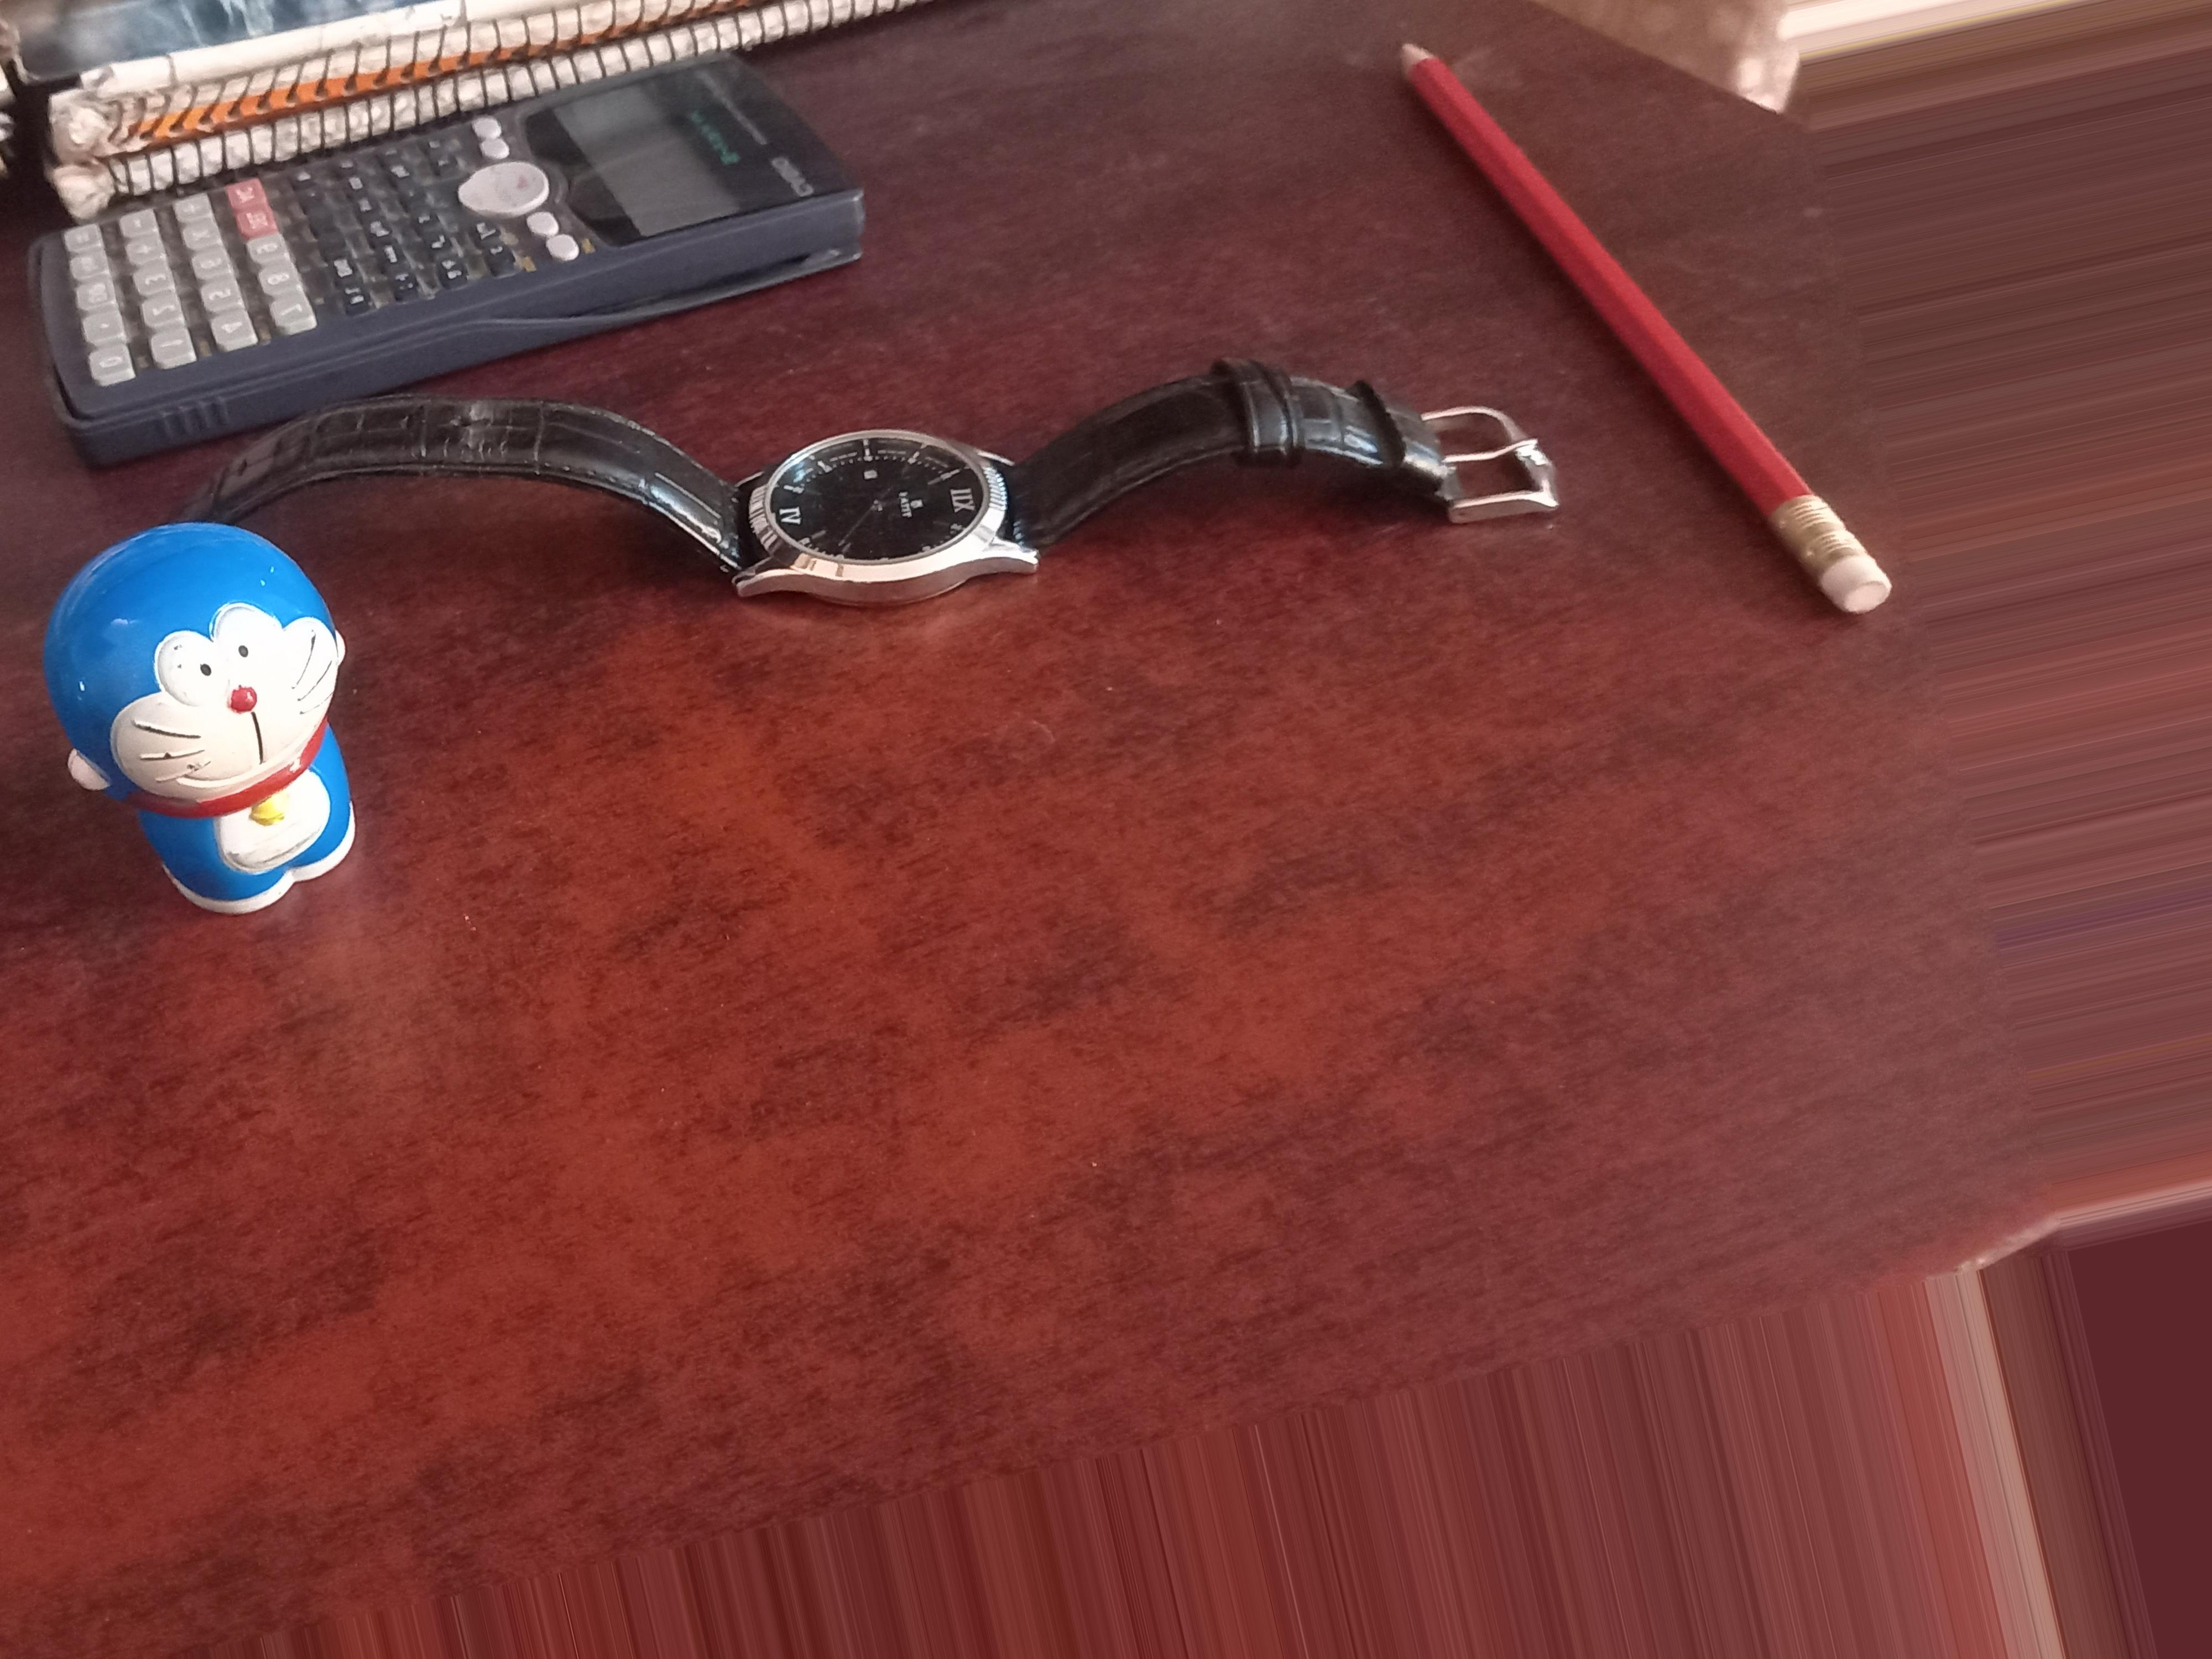calculator: (47, 216, 761, 356)
doraemon: (38, 570, 390, 885)
pencil: (1343, 26, 1672, 322)
watch: (660, 415, 1136, 667)
